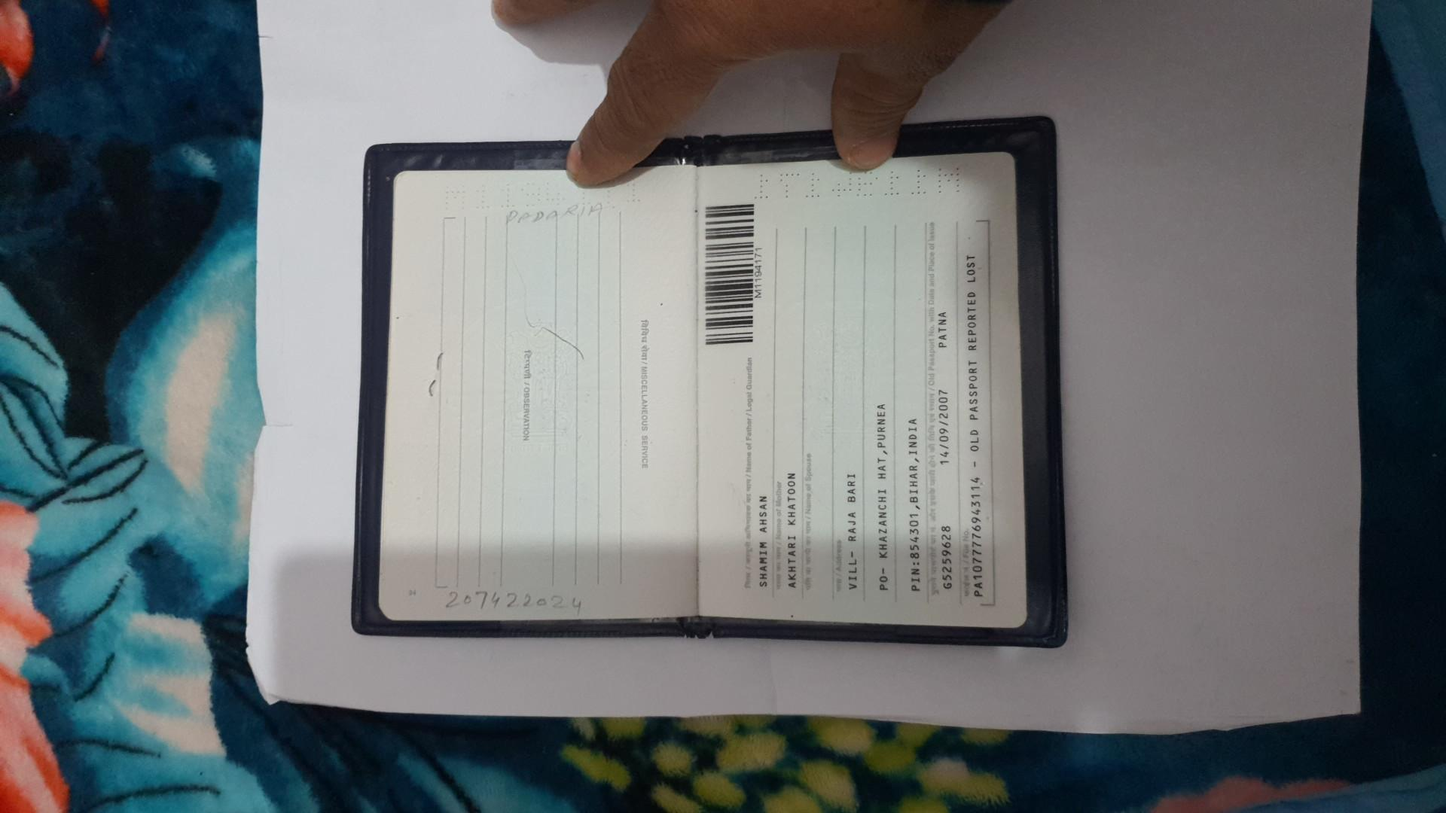File_no: (369, 545, 607, 555)
address: (384, 474, 804, 520)
father_name: (388, 423, 583, 435)
mother_name: (384, 439, 634, 452)
old_passport_details: (382, 525, 927, 537)
passport_no: (900, 421, 1011, 432)
